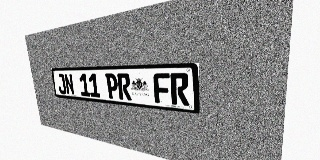1: (88, 73, 100, 98), (78, 74, 90, 97)
F: (153, 73, 171, 104)
J: (56, 74, 67, 94)
N: (64, 74, 75, 95)
P: (105, 73, 119, 99)
R: (170, 73, 189, 106), (117, 73, 132, 100)
